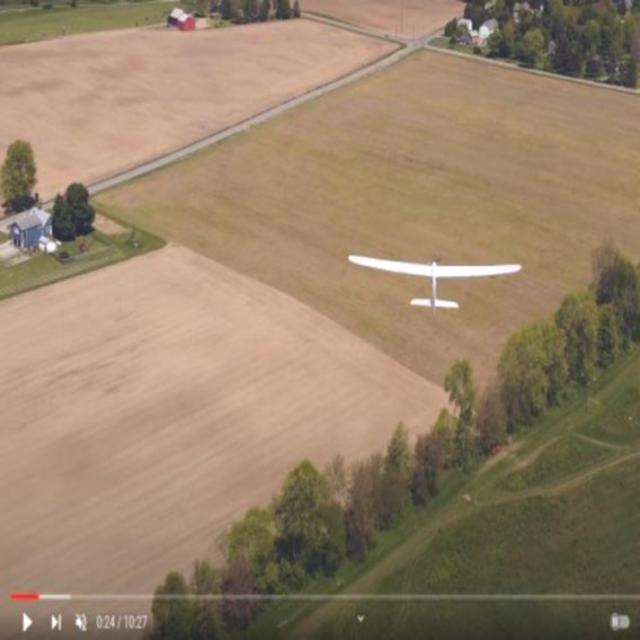plane: (344, 252, 522, 310)
